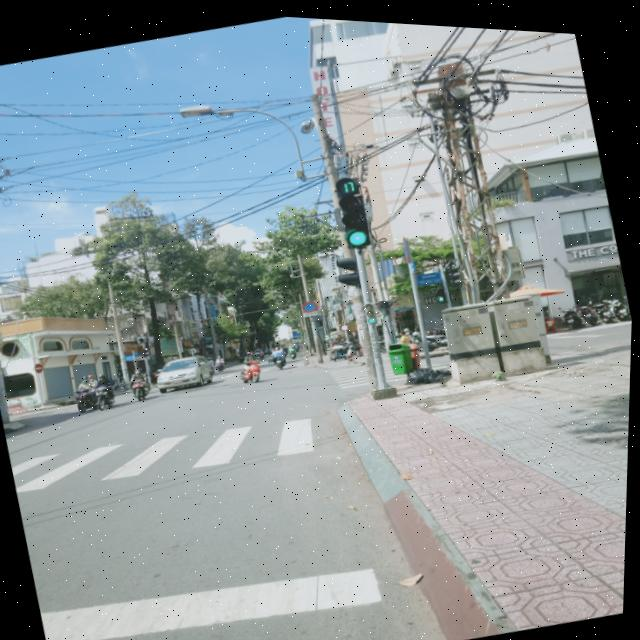Green: (329, 188, 381, 254), (358, 289, 391, 328)
